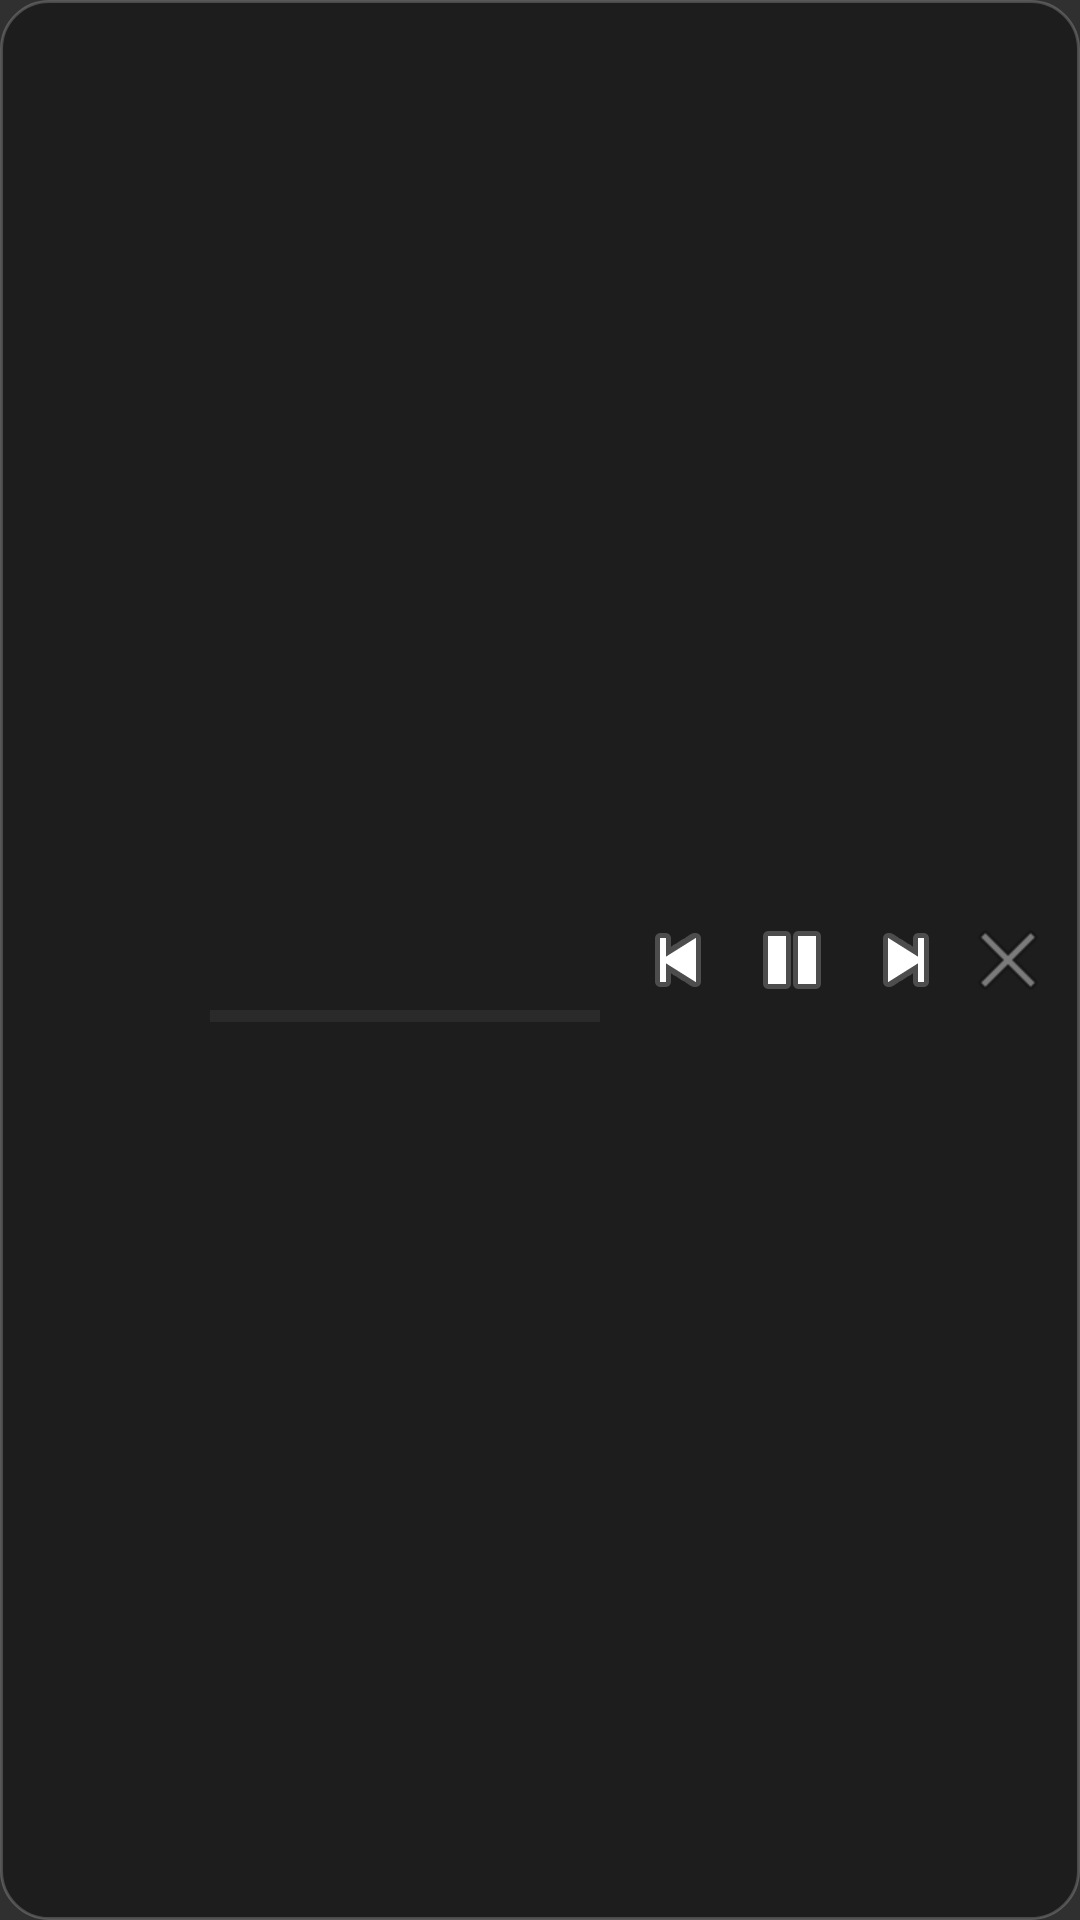

Screen size 1080*1920. Icon name, then its box in pixels as detection(x1, y1, x2, y2):
上一首: detection(655, 933, 701, 987)
下一首: detection(883, 933, 929, 987)
播放/暫停: detection(763, 931, 821, 989)
關閉: detection(981, 933, 1035, 987)
